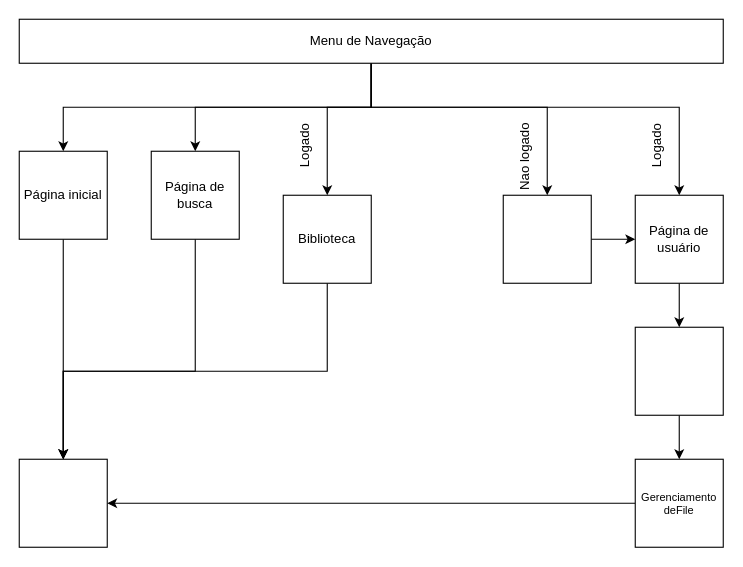
Image size: 743x567. Some labels were removed from this diagram. Here are the shapes that lost their labels. From the top down, the centre of each, then its label:
At point 546,238: "P á gina de registro e login".
At point 678,370: "Gerenciamento de File".
At point 62,502: "P á gina de File".
